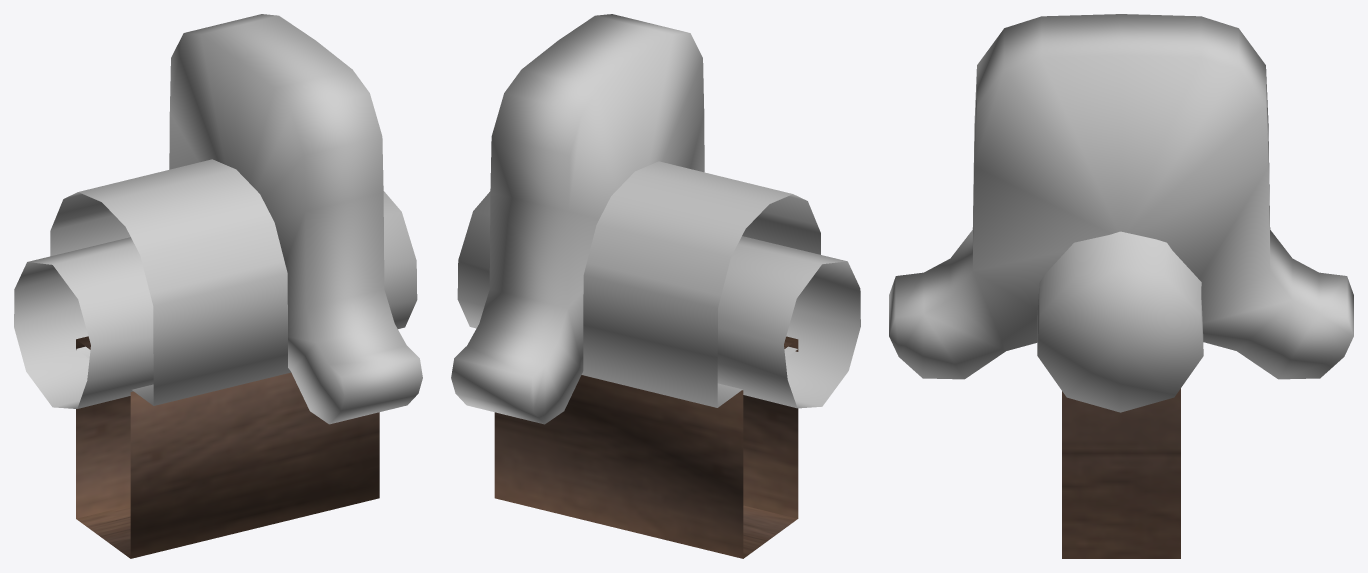
Rendered from onikawara_a2.fbx.
The picture shows the model from 3 angles, left to right: view 1: azimuth 30°, elevation 25°; view 2: azimuth 150°, elevation 25°; view 3: azimuth 270°, elevation 25°; orthographic projection. The views are drawn at different scales.
Parts seen in each view (by area): view 1: onikawara_a2; view 2: onikawara_a2; view 3: onikawara_a2.
Part boxes in pixels (x1,y1,x2,y2): onikawara_a2: (14, 14, 422, 558); onikawara_a2: (451, 14, 860, 558); onikawara_a2: (889, 14, 1353, 558).
Size of the model in its own units: 39.67 by 51.18 by 44.51.
